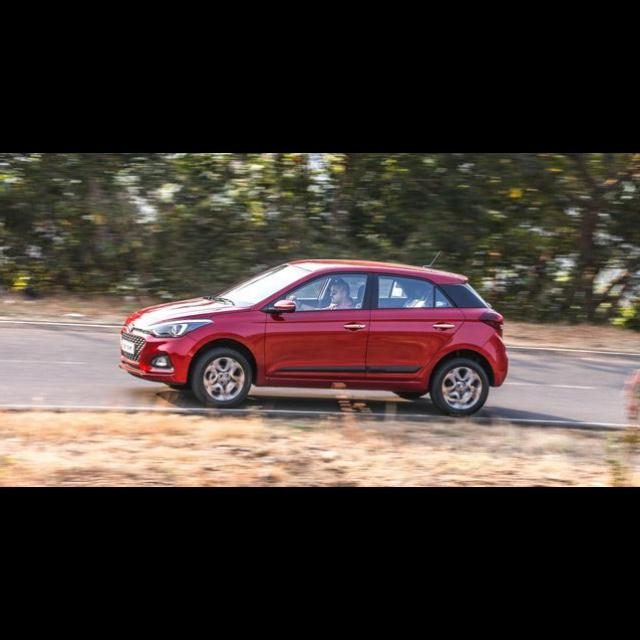vehicles: (119, 254, 511, 420)
